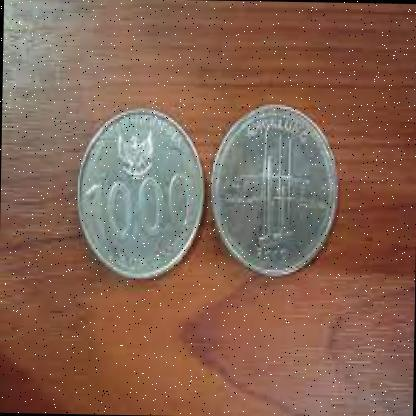coin_1000_e2010: (211, 104, 341, 286), (73, 109, 207, 281)
